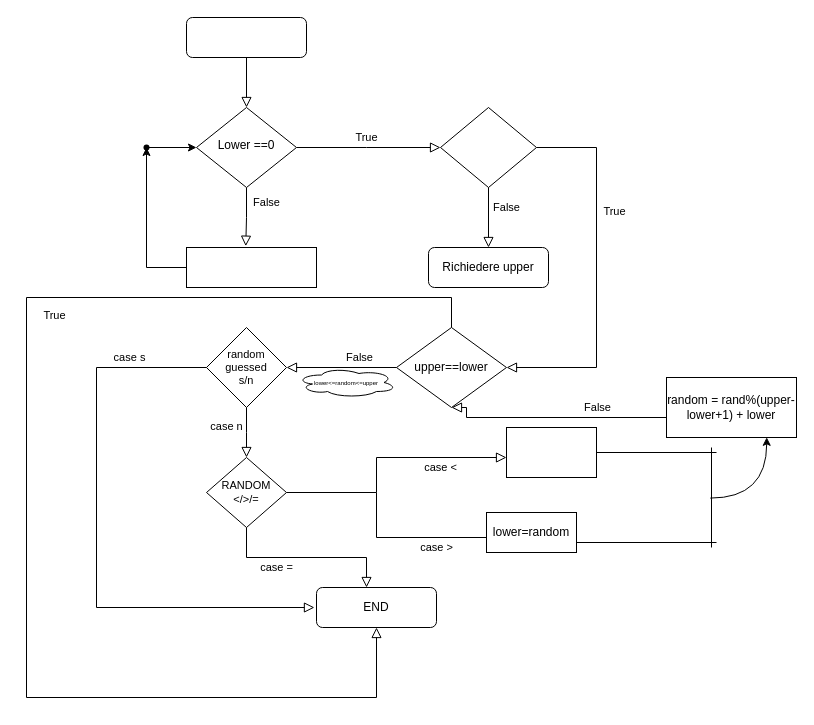
This 814x725 diagram has some shape labels left out. Here are the shapes that lost their labels. From the top down, the centre of each, then its label:
At point 246,37: "START".
At point 488,147: "upper>=lower".
At point 251,267: "richiedere lower".
At point 551,452: "upper=random".
